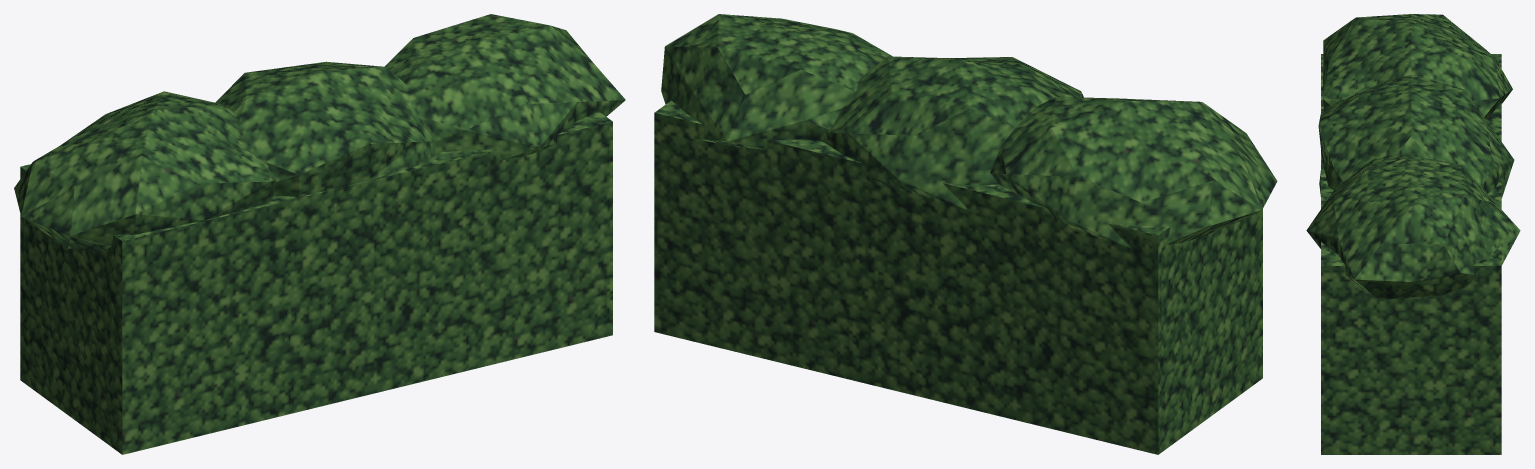
Rendered from FN_HedgeBoundary_2.5m.obj.
The picture shows the model from 3 angles, left to right: view 1: azimuth 30°, elevation 25°; view 2: azimuth 150°, elevation 25°; view 3: azimuth 270°, elevation 25°; orthographic projection. The views are drawn at different scales.
Parts seen in each view (by area): view 1: FN_HedgeBoundary_2.5m; view 2: FN_HedgeBoundary_2.5m; view 3: FN_HedgeBoundary_2.5m.
Boxes of the visible parts, x1,y1,x2,y2 form: FN_HedgeBoundary_2.5m: (14, 14, 625, 454); FN_HedgeBoundary_2.5m: (654, 14, 1277, 454); FN_HedgeBoundary_2.5m: (1306, 14, 1520, 454).
Size of the model in its own units: 2.95 by 1.4 by 1.07.
1 material, 1 textured.
